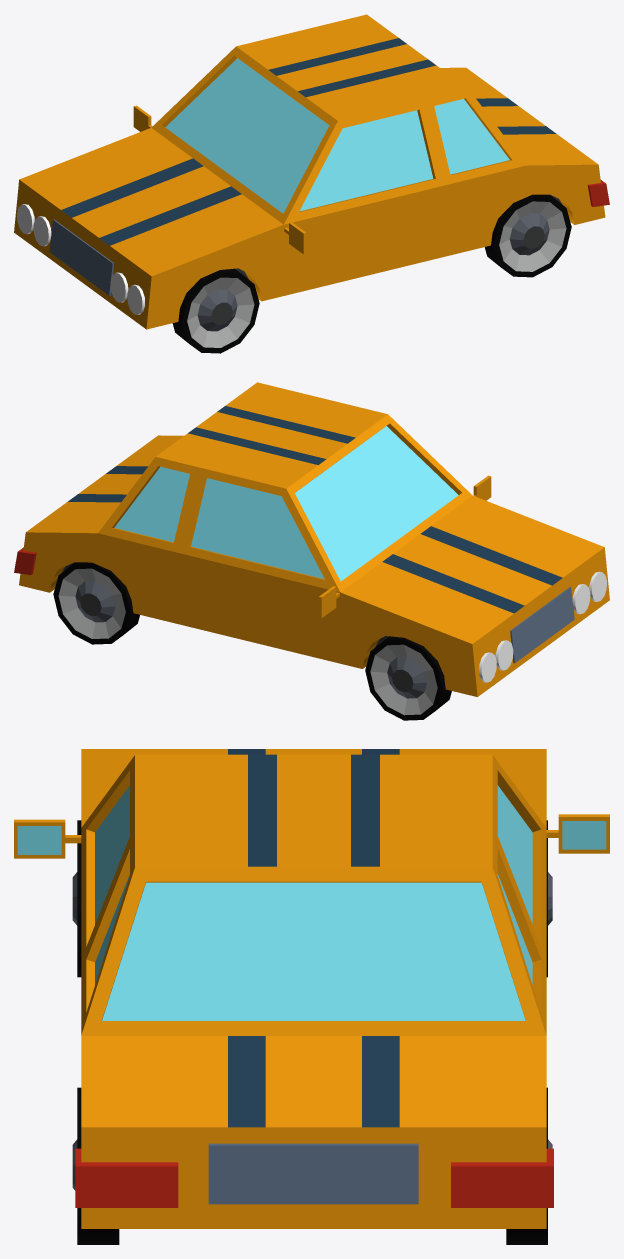
File: car1A.FBX
The picture shows the model from 3 angles, top to bottom: view 1: azimuth 30°, elevation 25°; view 2: azimuth 150°, elevation 25°; view 3: azimuth 270°, elevation 25°; orthographic projection. The views are drawn at different scales.
Parts seen in each view (by area): view 1: car1A; view 2: car1A; view 3: car1A.
Part boxes in pixels (bbox=[...]): car1A: bbox=[14, 14, 609, 353]; car1A: bbox=[14, 382, 609, 720]; car1A: bbox=[14, 749, 609, 1244].
Size of the model in its own units: 10.1 by 3.92 by 6.4.
